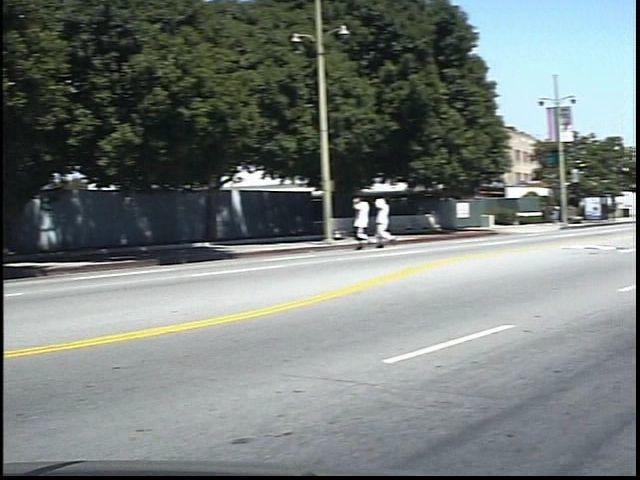person: (367, 192, 392, 255), (391, 194, 417, 254)
